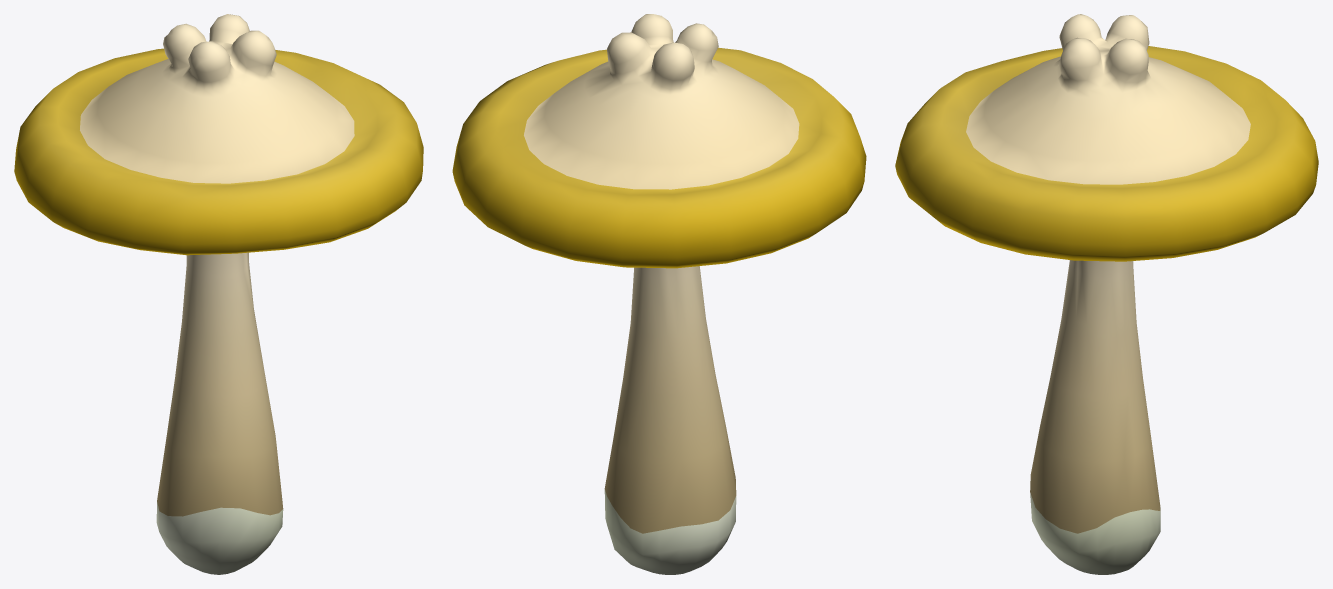
The model's file is Mushroom_0001_0013.fbx.
3 views of the same model, side by side, from view 1: azimuth 30°, elevation 25°; view 2: azimuth 150°, elevation 25°; view 3: azimuth 270°, elevation 25° (orthographic).
Visible parts, largest first — view 1: Mushroom_0001_0013; view 2: Mushroom_0001_0013; view 3: Mushroom_0001_0013.
Part boxes in pixels (x1=…): Mushroom_0001_0013: x1=14, y1=14, x2=423, y2=574; Mushroom_0001_0013: x1=452, y1=14, x2=866, y2=574; Mushroom_0001_0013: x1=895, y1=14, x2=1318, y2=574.
Size of the model in its own units: 0.1909 by 0.2754 by 0.1959.
1 material, 1 textured.
